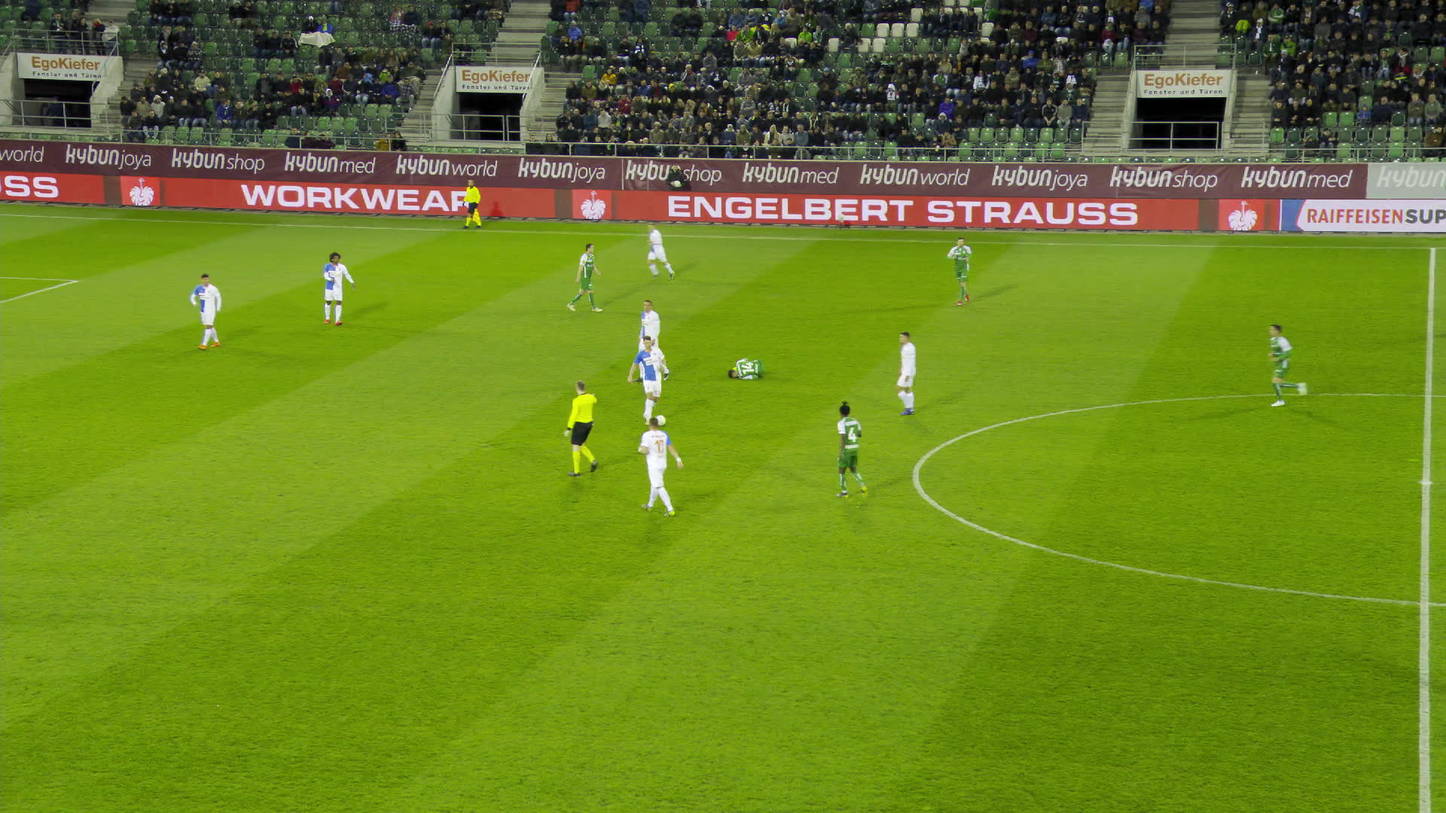ball: (657, 415, 667, 423)
player: (636, 417, 685, 516), (831, 400, 869, 501), (628, 332, 665, 424), (1270, 323, 1307, 406), (895, 332, 925, 416), (322, 251, 355, 327), (193, 273, 223, 350), (569, 242, 600, 312), (948, 238, 975, 305), (649, 224, 681, 280), (639, 299, 663, 364), (728, 358, 764, 381)
referee: (563, 380, 601, 477), (461, 178, 480, 229)
